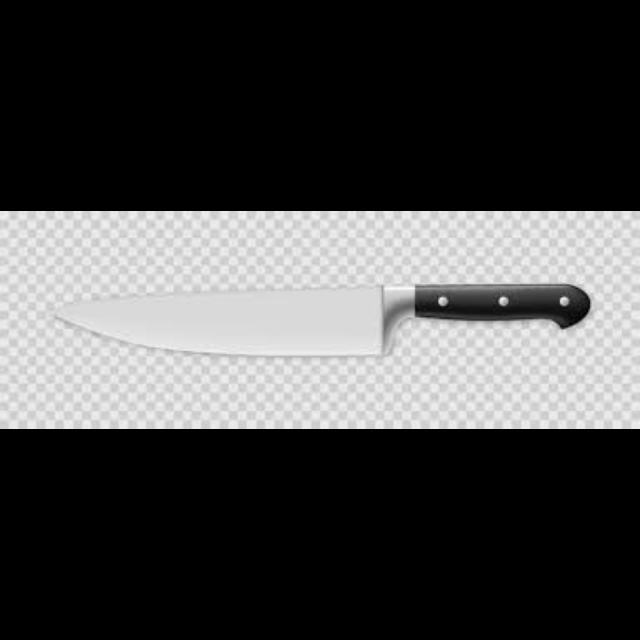Knife: (54, 282, 590, 356)
